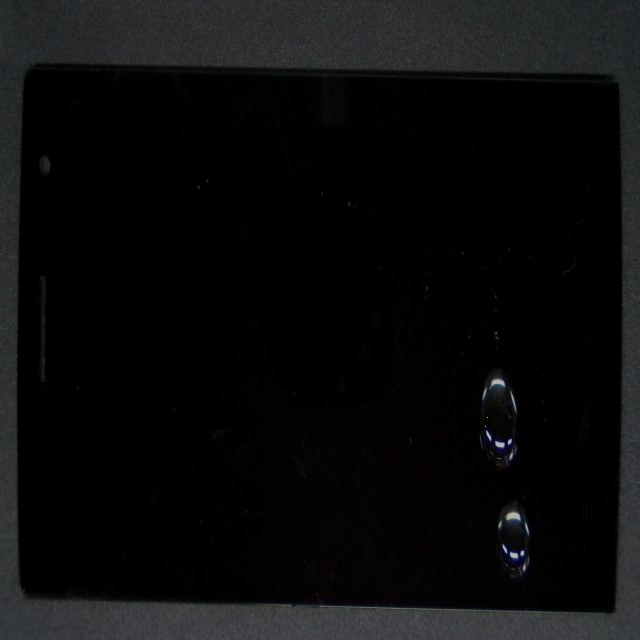oil: (255, 162, 640, 581), (241, 250, 640, 640)
